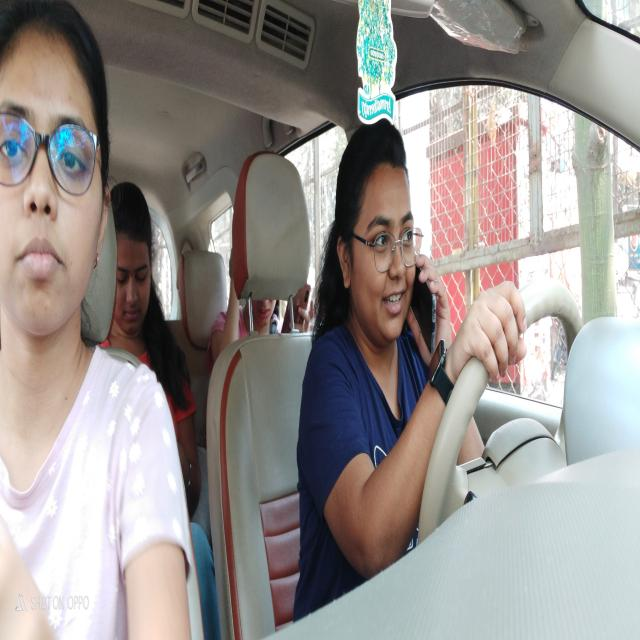mobile: (414, 266, 443, 369)
person: (1, 6, 114, 355), (328, 117, 428, 346), (110, 158, 167, 346)
